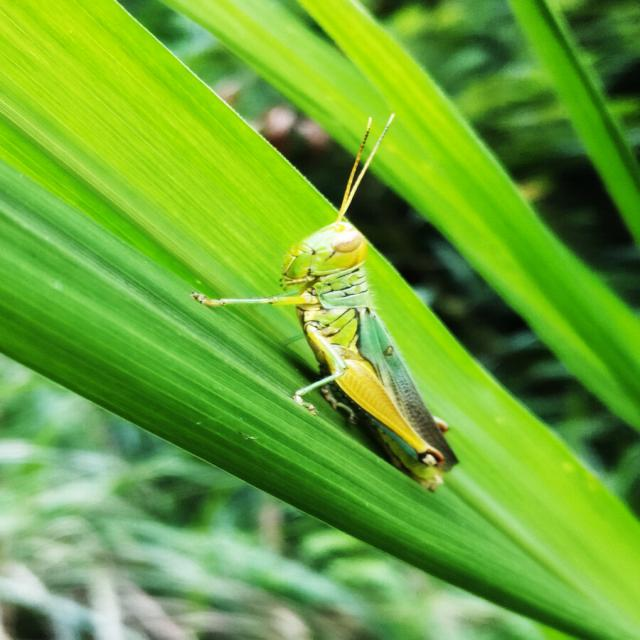ZhaMeng: (210, 146, 457, 488)
